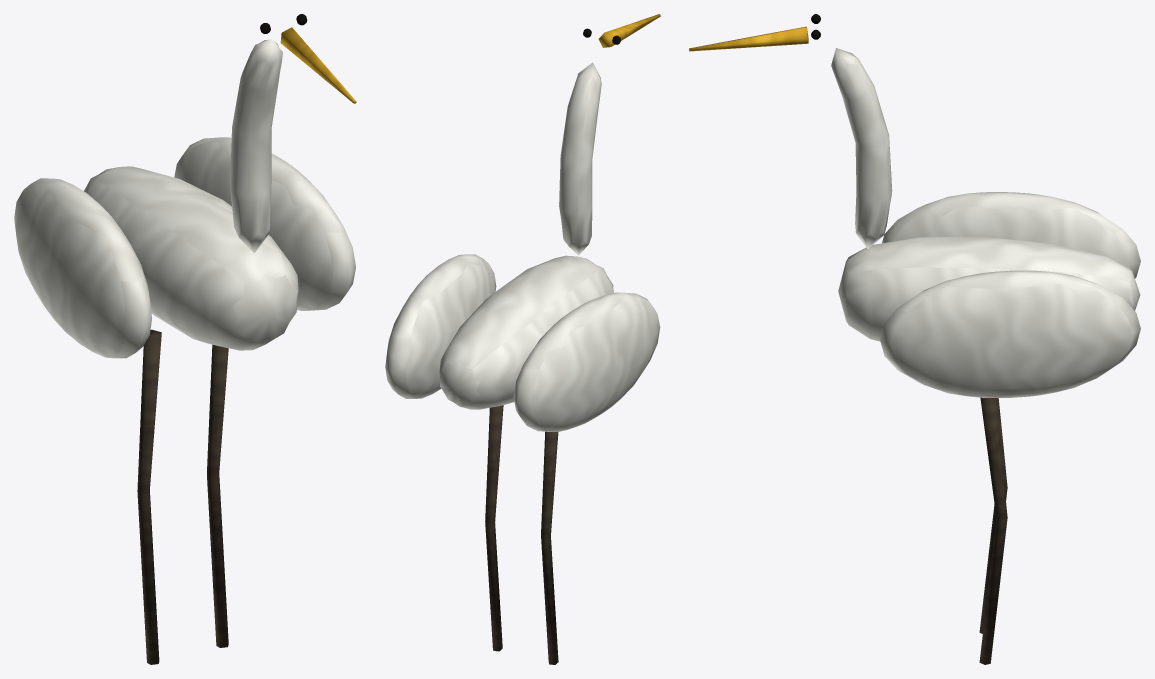
The model's file is animal_cattle_egret.glb.
3 renders of one model, left to right at view 1: azimuth 30°, elevation 25°; view 2: azimuth 150°, elevation 25°; view 3: azimuth 270°, elevation 25°, orthographic. The views are drawn at different scales.
Parts seen in each view (by area): view 1: Body.009, Wing_L, Wing_R, Head.009, Leg_FL.009, Leg_FR.009, Beak.002; view 2: Wing_L, Body.009, Wing_R, Head.009, Leg_FR.009, Leg_FL.009, Beak.002; view 3: Wing_R, Body.009, Wing_L, Head.009, Leg_FR.009, Beak.002, Leg_FL.009.
Part boxes in pixels (bbox=[...]): Body.009: bbox=[84, 166, 298, 350]; Wing_L: bbox=[14, 178, 151, 358]; Wing_R: bbox=[174, 137, 355, 310]; Head.009: bbox=[230, 39, 282, 253]; Leg_FL.009: bbox=[137, 329, 161, 664]; Leg_FR.009: bbox=[207, 344, 228, 647]; Beak.002: bbox=[280, 27, 356, 103]; Wing_L: bbox=[513, 292, 660, 431]; Body.009: bbox=[439, 255, 613, 409]; Wing_R: bbox=[385, 254, 496, 398]; Head.009: bbox=[559, 62, 601, 255]; Leg_FR.009: bbox=[485, 405, 503, 651]; Leg_FL.009: bbox=[541, 431, 558, 664]; Beak.002: bbox=[598, 14, 660, 47]; Wing_R: bbox=[880, 270, 1140, 397]; Body.009: bbox=[838, 237, 1140, 341]; Wing_L: bbox=[882, 192, 1140, 278]; Head.009: bbox=[831, 48, 892, 248]; Leg_FR.009: bbox=[979, 397, 1007, 664]; Beak.002: bbox=[689, 26, 808, 51]; Leg_FL.009: bbox=[979, 398, 1007, 633].
Bounding box in the file's own units: 0.3031 × 0.8167 × 0.5347.
Materials: 4 (4 with a texture image).
